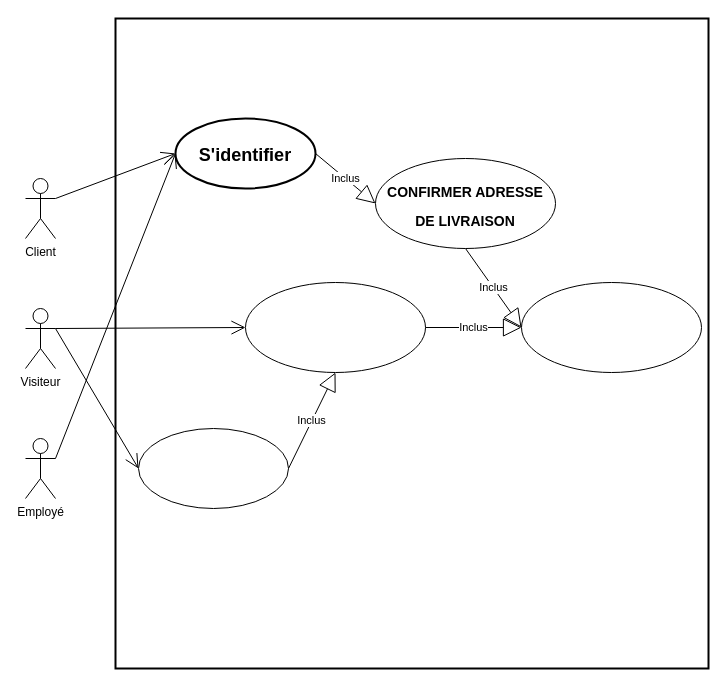
The diagram is 727 pixels wide and 686 high, and some of its shapes have lost their labels. Here are the shapes that lost their labels. From the top down, the box of each, then its label:
(244, 282, 426, 372): DONNER ADRESSE DE LIVRAISON
(520, 282, 702, 372): CHOISIR UN RESTAURANT
(138, 428, 288, 508): S'INSCRIRE
